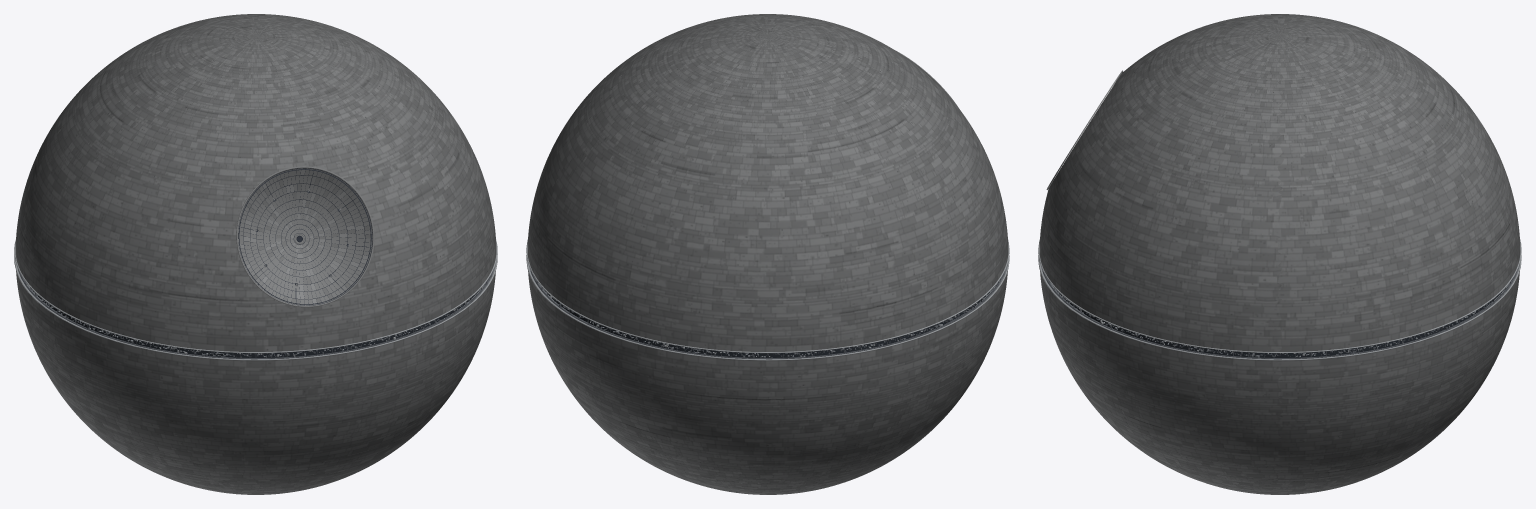
Rendered from starwars_death_star_planet_far.glb.
3 renders of one model, left to right at view 1: azimuth 30°, elevation 25°; view 2: azimuth 150°, elevation 25°; view 3: azimuth 270°, elevation 25°, orthographic.
Parts seen in each view (by area): view 1: DS | Estructura esferica con abertura del superlaser, DS | Sectores radiales del reflector, DS | Trinchera ecuatorial profunda y maquinaria, DS | Reflector concavo parabolico, DS | Anillos, ocho emisores y colimador central; view 2: DS | Estructura esferica con abertura del superlaser, DS | Trinchera ecuatorial profunda y maquinaria; view 3: DS | Estructura esferica con abertura del superlaser, DS | Trinchera ecuatorial profunda y maquinaria.
Boxes of the visible parts, x1,y1,x2,y2 form: DS | Estructura esferica con abertura del superlaser: [15, 14, 496, 494]; DS | Sectores radiales del reflector: [238, 168, 372, 305]; DS | Trinchera ecuatorial profunda y maquinaria: [14, 239, 497, 360]; DS | Reflector concavo parabolico: [238, 168, 372, 305]; DS | Anillos, ocho emisores y colimador central: [236, 166, 374, 307]; DS | Estructura esferica con abertura del superlaser: [527, 14, 1008, 494]; DS | Trinchera ecuatorial profunda y maquinaria: [526, 239, 1009, 360]; DS | Estructura esferica con abertura del superlaser: [1039, 14, 1520, 494]; DS | Trinchera ecuatorial profunda y maquinaria: [1038, 239, 1521, 360].
Size of the model in its own units: 44.07 by 43.85 by 44.07.
11 materials, 1 textured.
